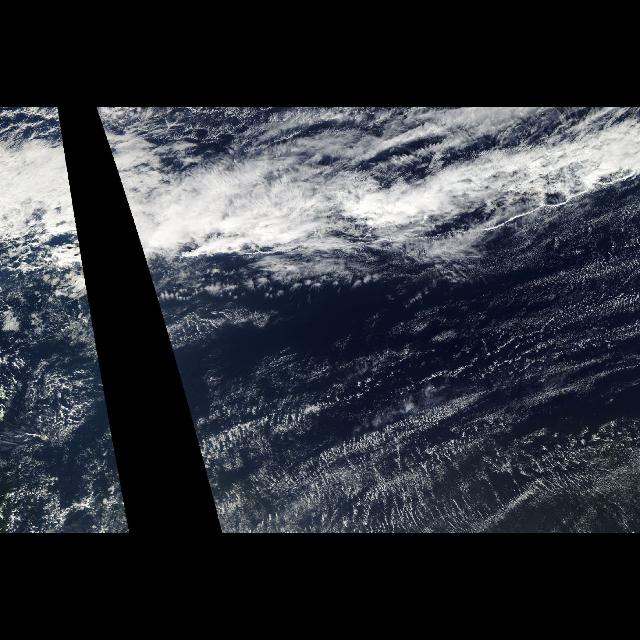Sugar: (168, 238, 640, 534)
